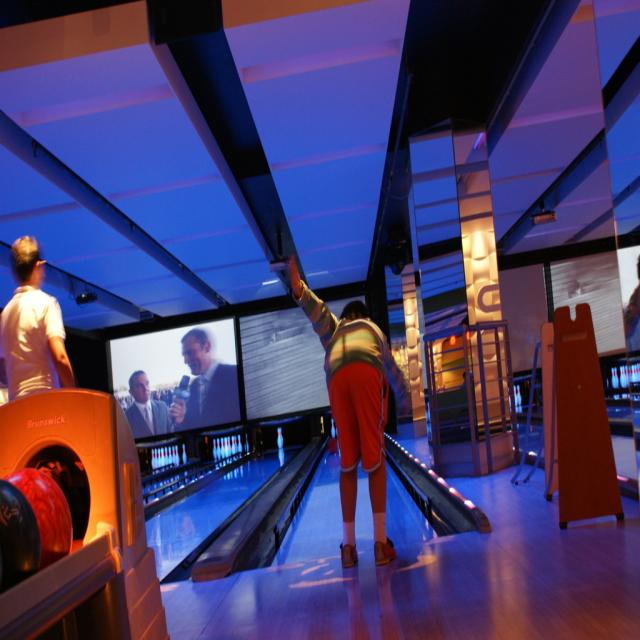Ball: (9, 466, 71, 566), (30, 450, 91, 540), (0, 478, 39, 592)
